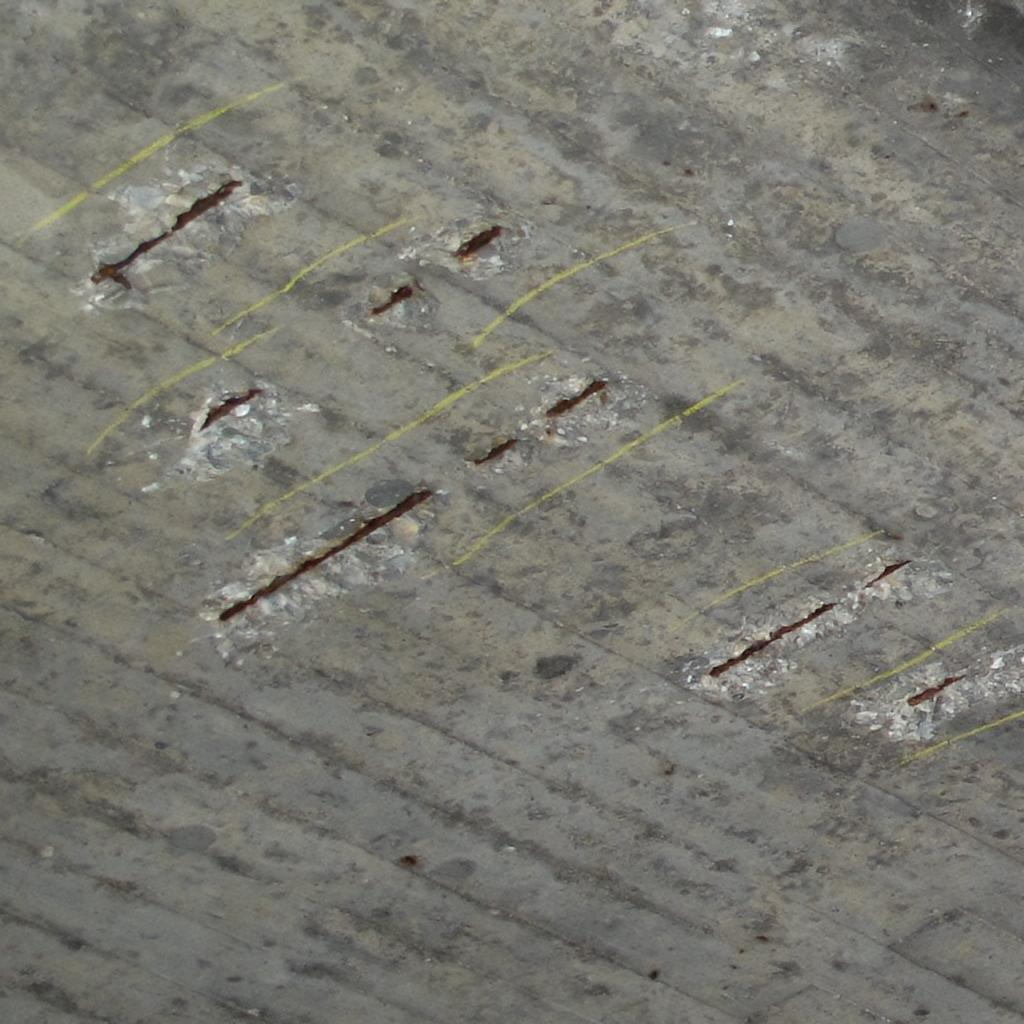exposed_rebar: (218, 490, 432, 621), (92, 180, 242, 288), (710, 602, 836, 677), (200, 388, 262, 429), (546, 380, 608, 418), (908, 675, 964, 706), (454, 226, 502, 259), (372, 284, 414, 315), (864, 560, 912, 587), (474, 438, 518, 464)
spalling: (206, 480, 444, 656), (682, 556, 952, 700), (80, 136, 298, 304), (850, 644, 1024, 740), (472, 376, 648, 462), (174, 382, 290, 480), (400, 208, 530, 279), (348, 274, 438, 329), (296, 402, 320, 413)
